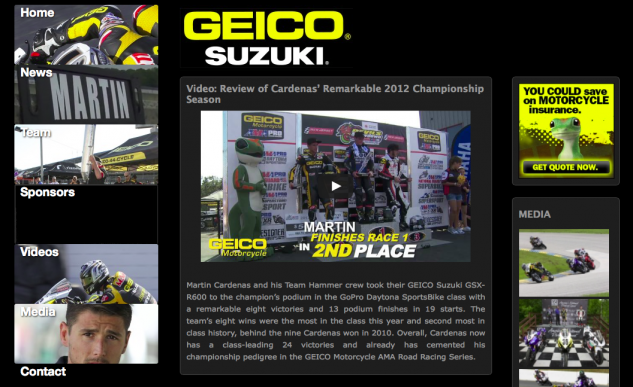Geico: (181, 4, 357, 43)
